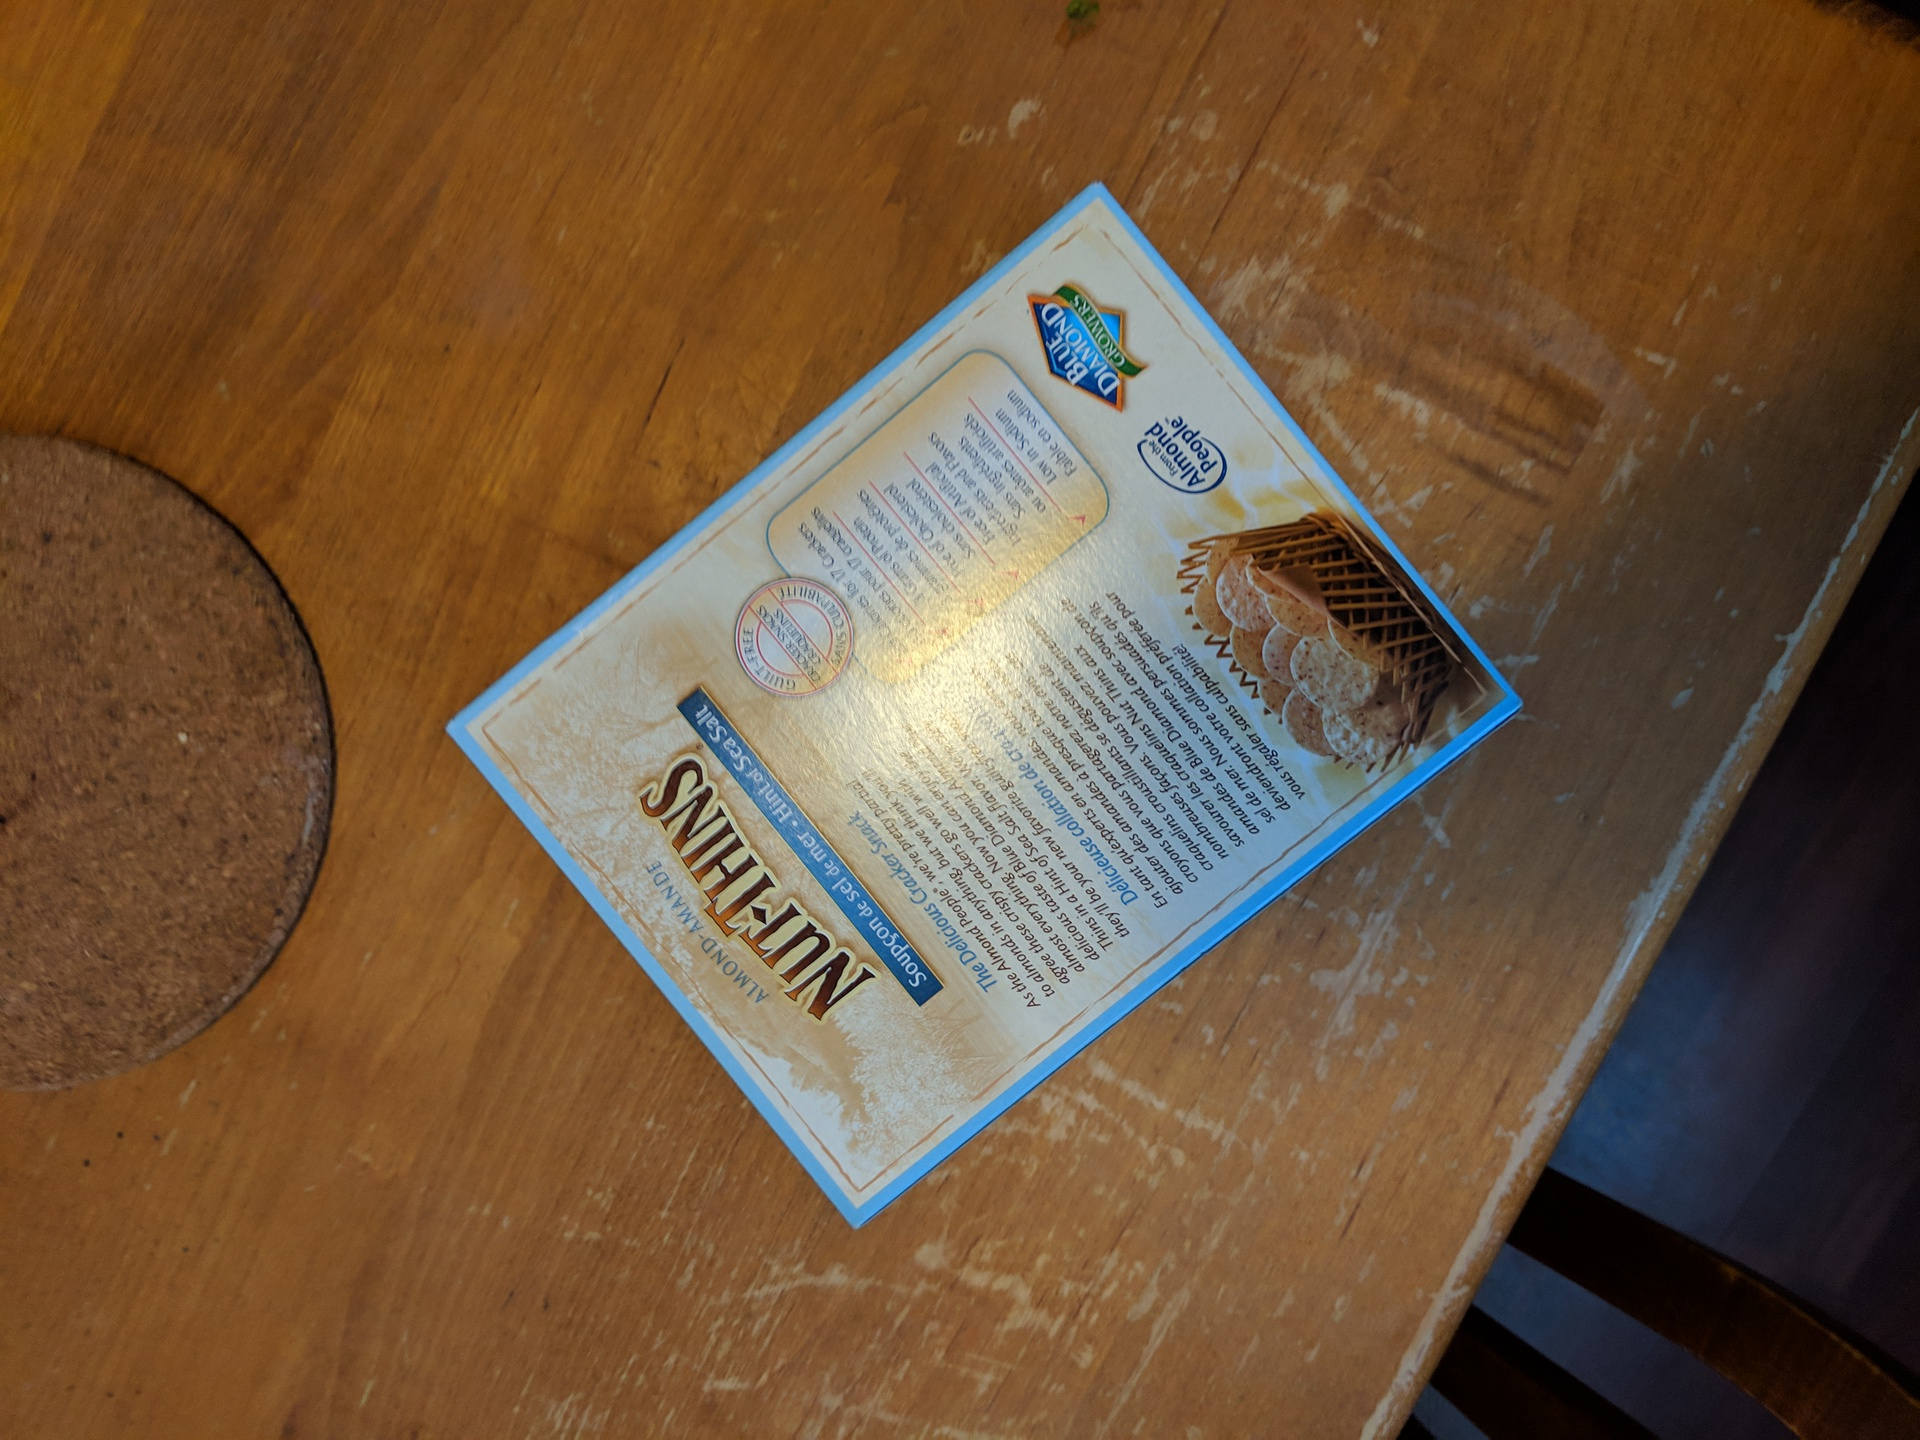blue_diamond_nut_thins_almond_seasalt: (556, 284, 1438, 1127)
